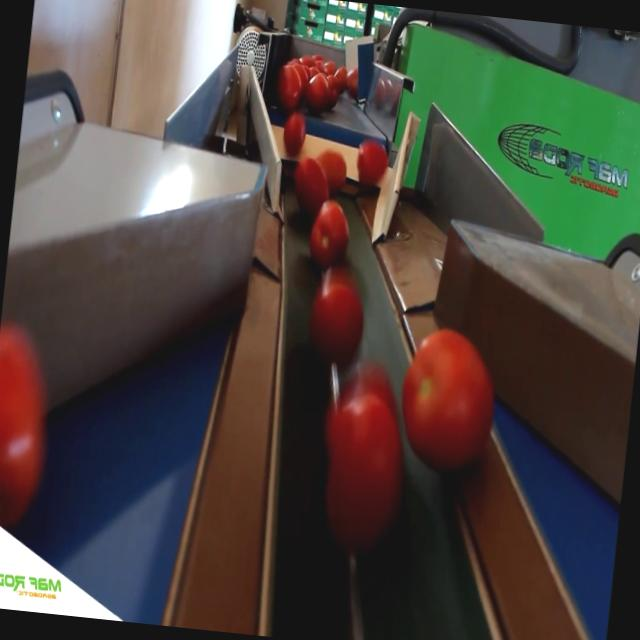Tomato: (398, 332, 507, 478), (318, 379, 409, 544), (0, 319, 63, 503), (300, 260, 374, 370), (306, 190, 358, 272), (289, 154, 330, 214), (351, 138, 394, 186), (314, 144, 352, 186), (274, 62, 304, 106), (278, 114, 308, 157), (302, 72, 334, 105), (322, 76, 342, 110), (333, 62, 348, 88)
